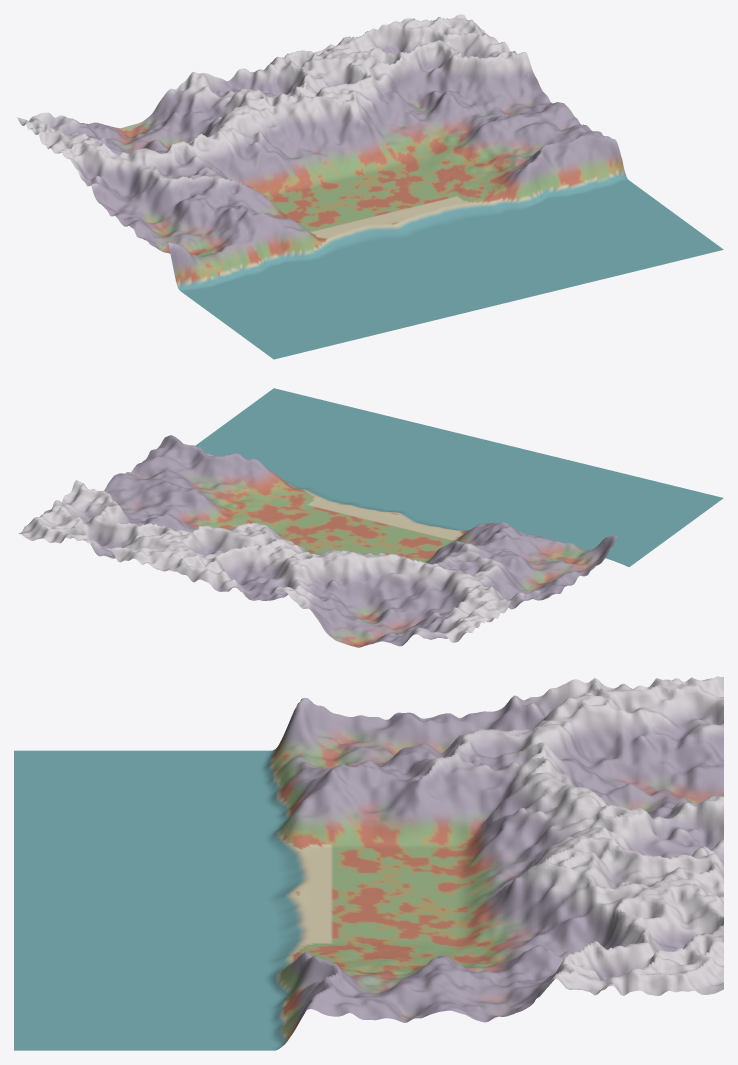
File: mundo-terreno.glb
The picture shows the model from 3 angles, top to bottom: view 1: azimuth 30°, elevation 25°; view 2: azimuth 150°, elevation 25°; view 3: azimuth 270°, elevation 25°; orthographic projection. The views are drawn at different scales.
Visible parts, largest first — view 1: Relevo; view 2: Relevo; view 3: Relevo.
Part boxes in pixels (box(x1,y1,x2,y2)): Relevo: box(17, 14, 723, 359); Relevo: box(18, 388, 723, 647); Relevo: box(14, 676, 723, 1050).
Size of the model in its own units: 6000 by 705 by 6000.
